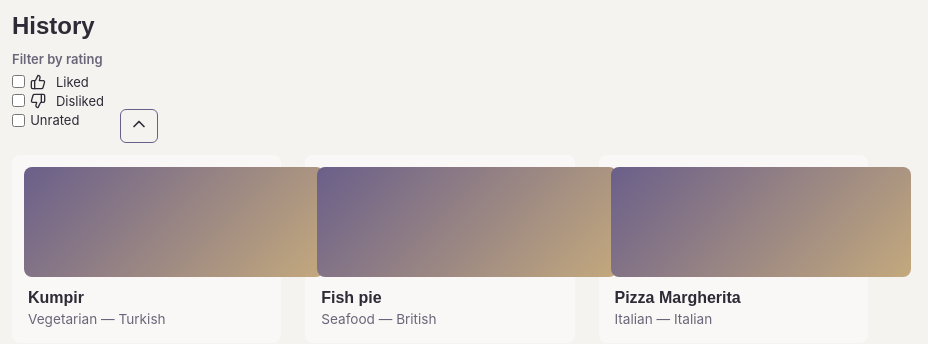
Test: History › filters by unrated entries when unrated checkbox is toggled
This screenshot has width=928, height=344.
Click the checkbox labelled "Unrated". click: (18, 120)
box: [12,114,25,127]
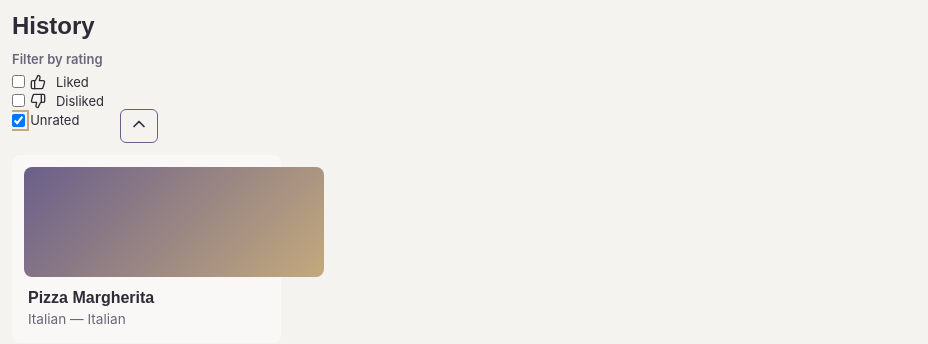
Expected: the heading "Pizza Margherita" is shown, [28,289,154,306]
Now the link "Fish pie" is gone
Now the link "Kumpir" is gone
